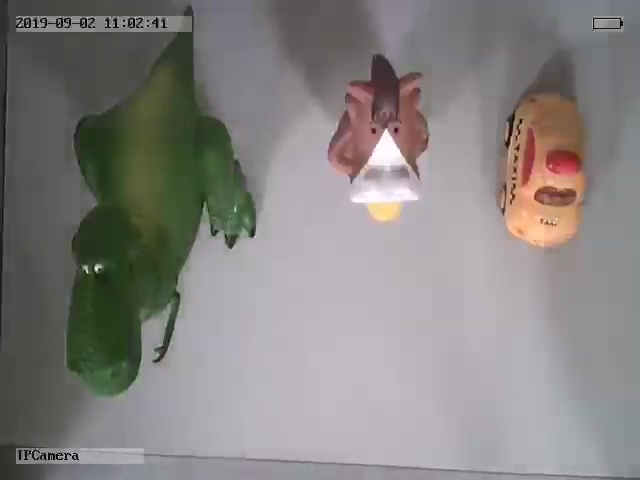car: (500, 87, 589, 251)
horse: (325, 51, 436, 229)
rex: (66, 33, 257, 399)
